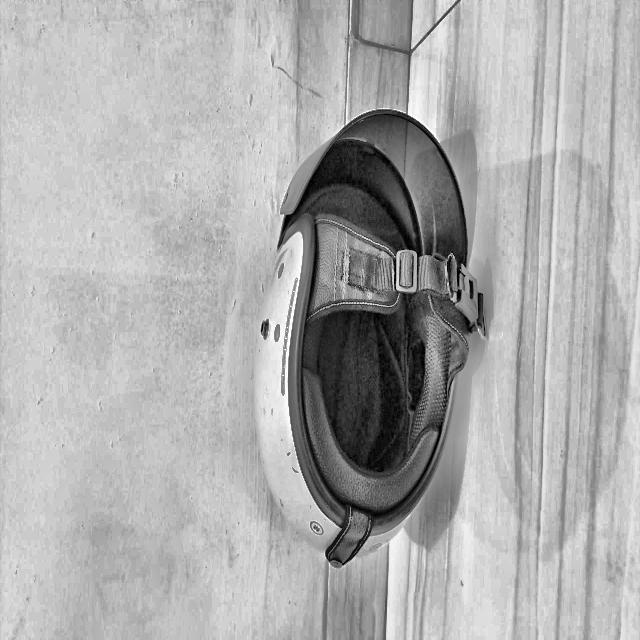Helmet: (33, 435, 310, 640)
